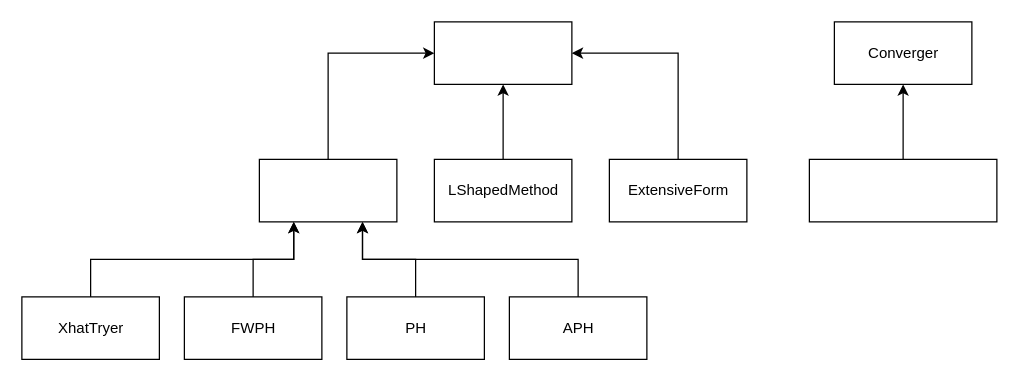
Some shapes in this 1019 by 381 pixel diagram are drawn without their labels. The centre of each missing label's shape, as x and y in pixels:
FractionalConverger: (902,190)
PHBase: (327,190)
SPBase: (502,52)
